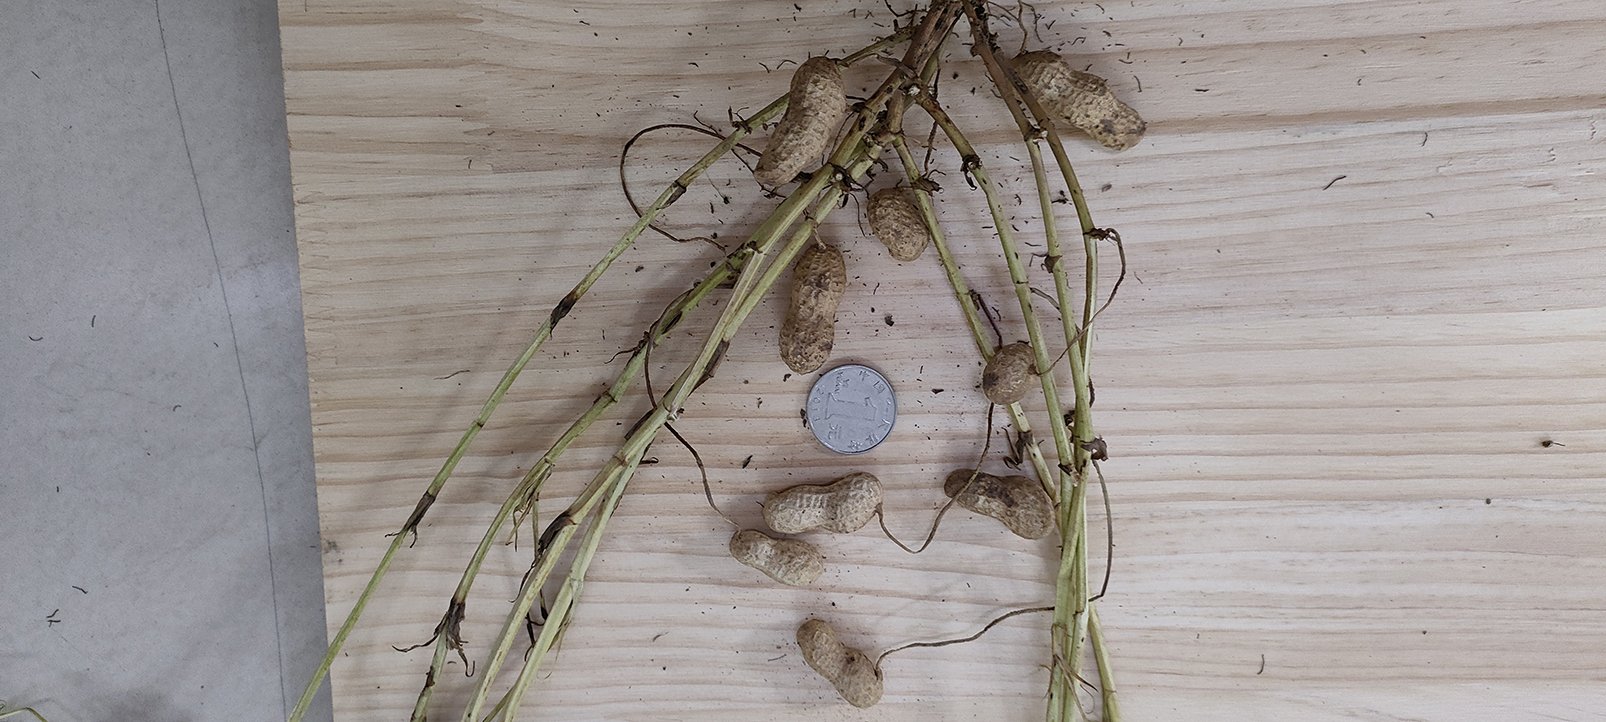h: (1013, 50, 1146, 151), (754, 57, 847, 187), (779, 246, 846, 372), (796, 619, 885, 710), (763, 472, 884, 538), (728, 529, 826, 588), (867, 188, 929, 260), (982, 341, 1037, 404)
l: (944, 469, 1050, 541)
